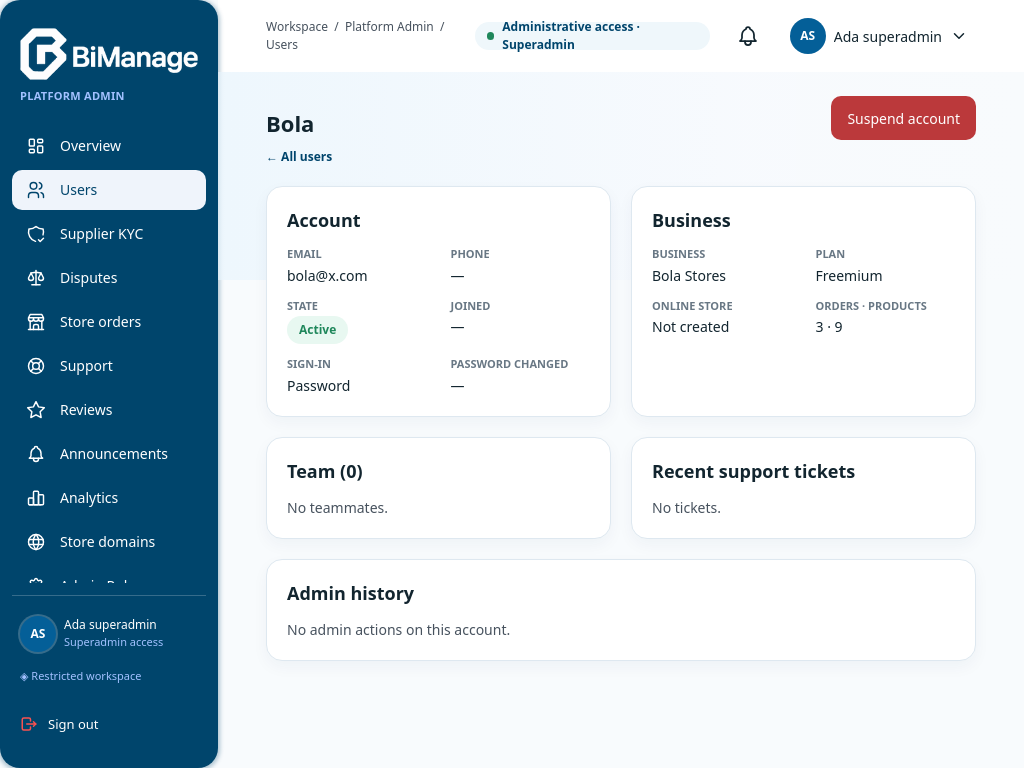
Test case: users › suspending needs a reason; the reason is sent
The image size is (1024, 768).
Click the button "Suspend account" at [904, 118], box [831,96,976,140]
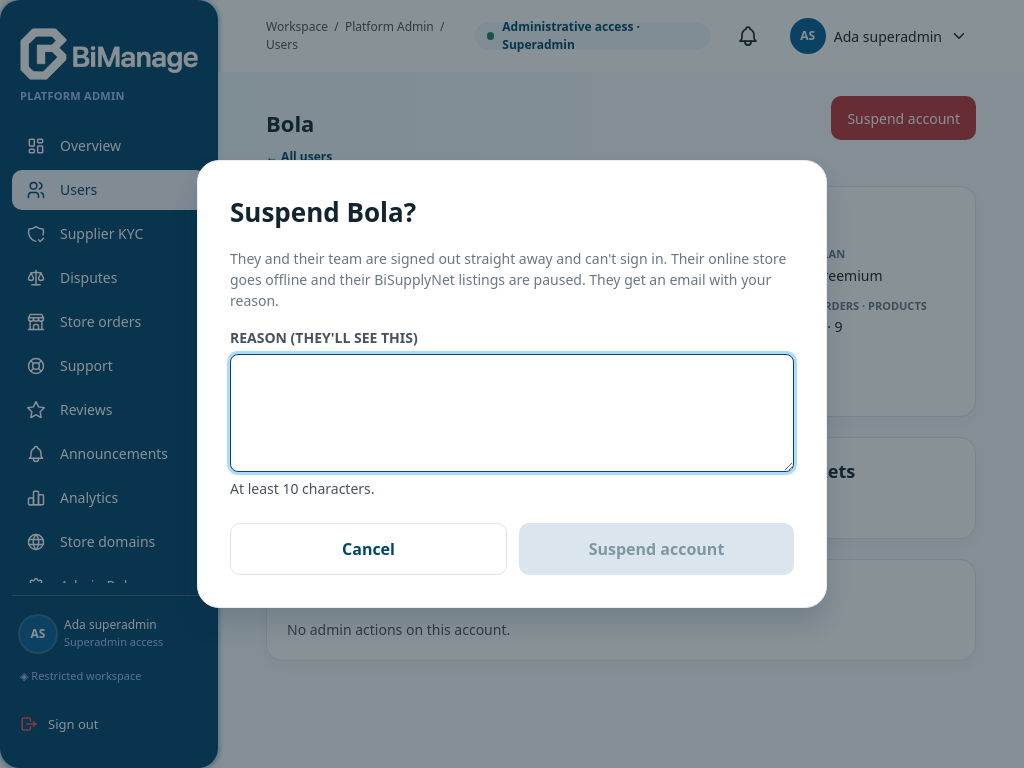
Now the button "Suspend account" is disabled, box [519,523,794,575]
Type "Selling counterfeit goods" into the text box labelled "Reason (they'll see this)" at [512, 413], box [230,354,794,472]
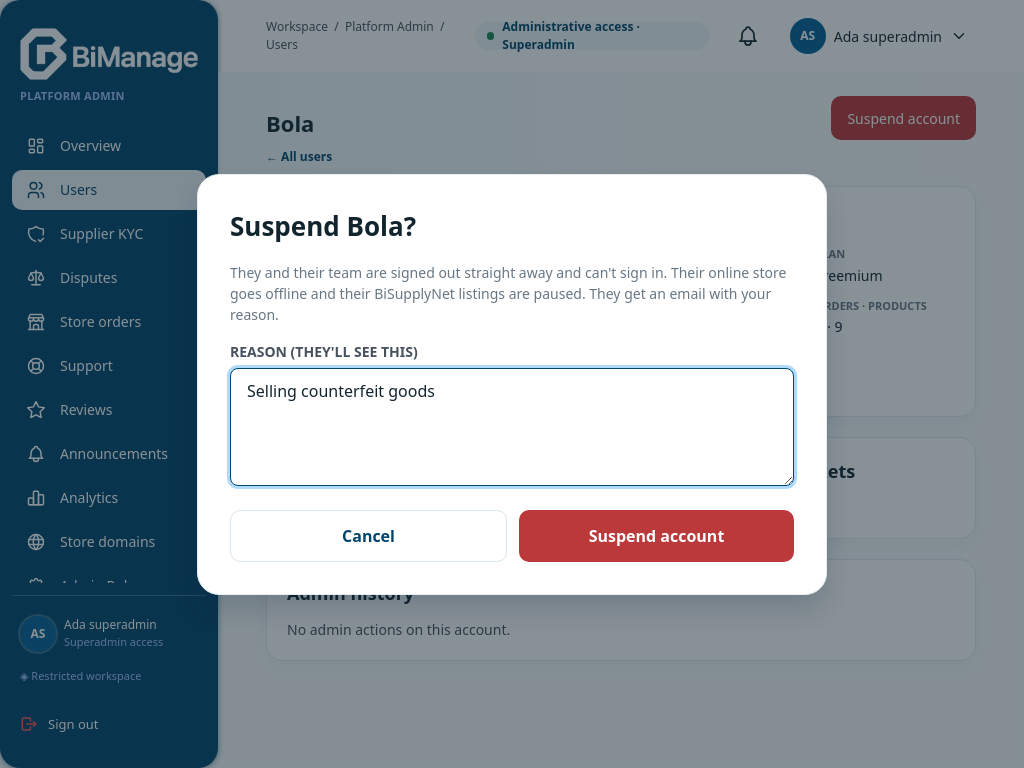
Click the button "Suspend account" at [656, 536], box [519,510,794,562]
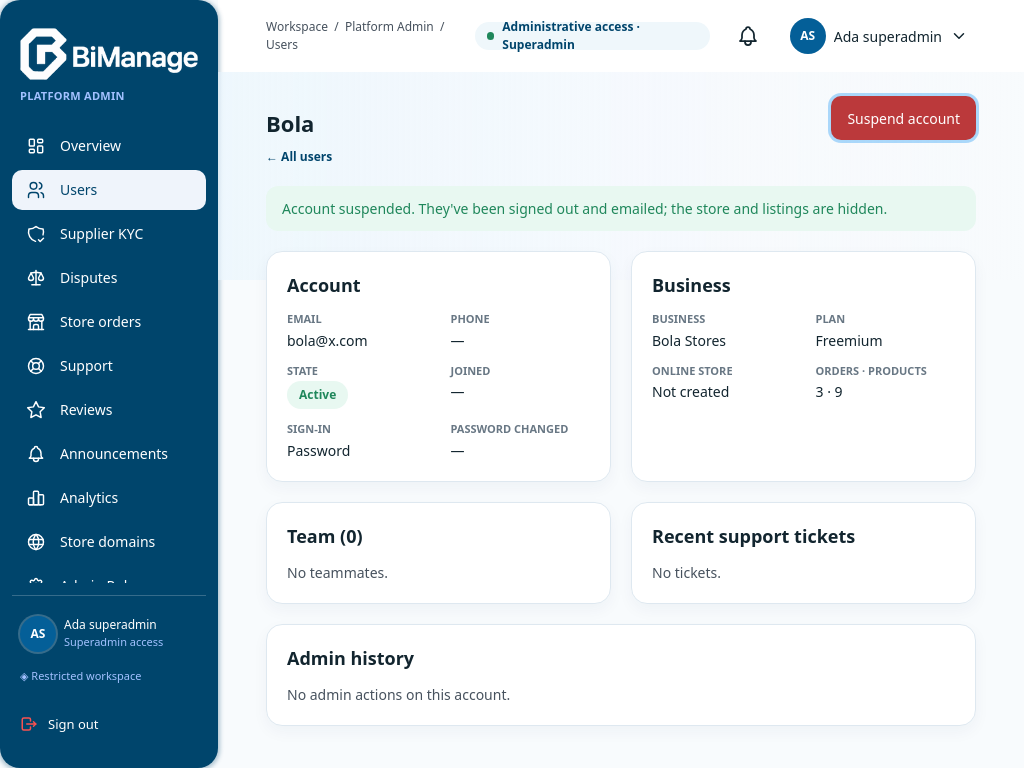
Now the text "signed out and emailed" is shown, box [282,199,887,218]
